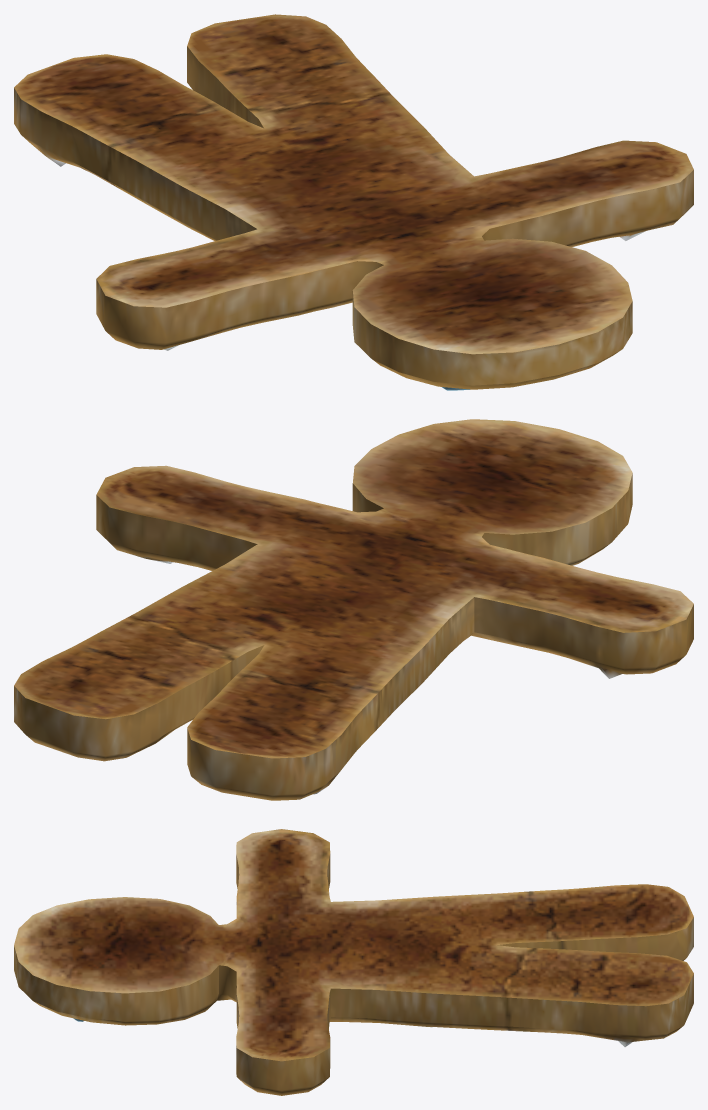
File: gingy.glb
3 views of the same model, one above another, from view 1: azimuth 30°, elevation 25°; view 2: azimuth 150°, elevation 25°; view 3: azimuth 270°, elevation 25° (orthographic). The views are drawn at different scales.
Parts seen in each view (by area): view 1: Object_2; view 2: Object_2; view 3: Object_2.
Part boxes in pixels (x1=…): Object_2: x1=14, y1=14, x2=693, y2=390; Object_2: x1=14, y1=419, x2=693, y2=800; Object_2: x1=14, y1=829, x2=693, y2=1095.
Bounding box in the file's own units: 0.4779 × 0.0587 × 0.5911.
1 material, 1 textured.
